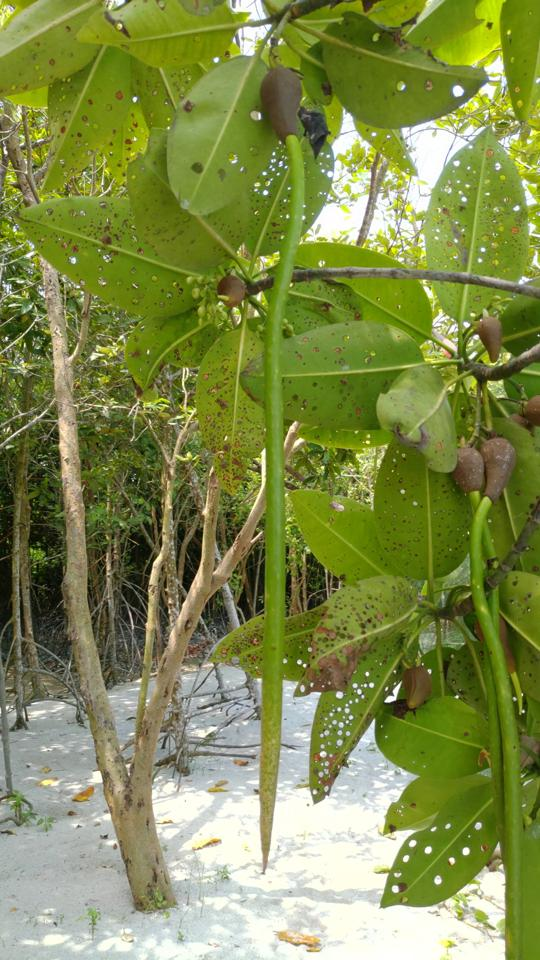mentah: (234, 53, 322, 890)
